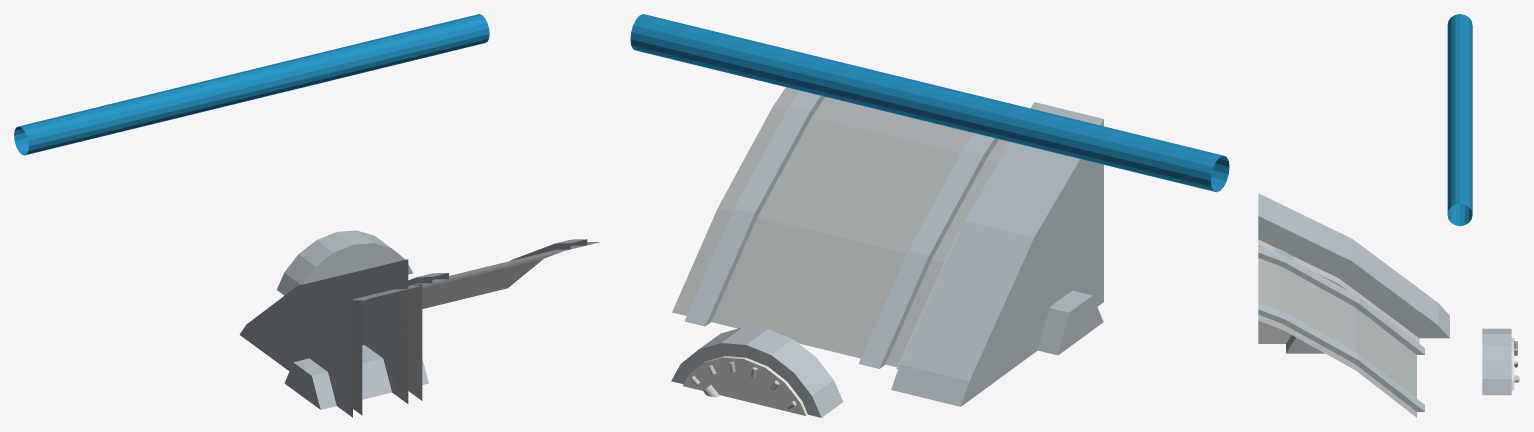
Rendered from cell_113.obj.
3 renders of one model, left to right at view 1: azimuth 30°, elevation 25°; view 2: azimuth 150°, elevation 25°; view 3: azimuth 270°, elevation 25°, orthographic. The views are drawn at different scales.
Bounding box in the file's own units: 1 × 0.528 × 0.583.
